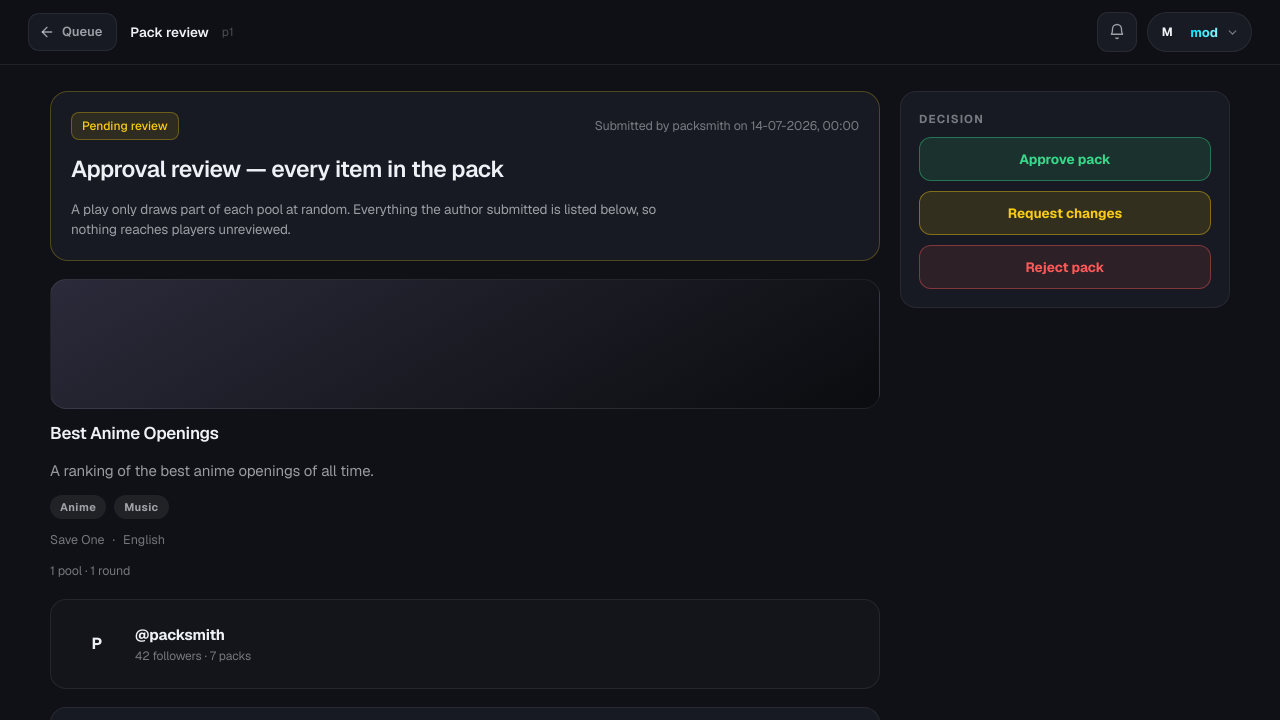
Scenario: PackReviewScreen › surfaces a failed approve instead of silently doing nothing, and does not navigate away
Check: the heading "Approval review — every item in the pack" is shown, box [71,154,504,184]
What coordinates should you click on to do the following:
click the button "Approve pack"
I would click on:
 (1065, 159)
Its box is [919,137,1211,181].
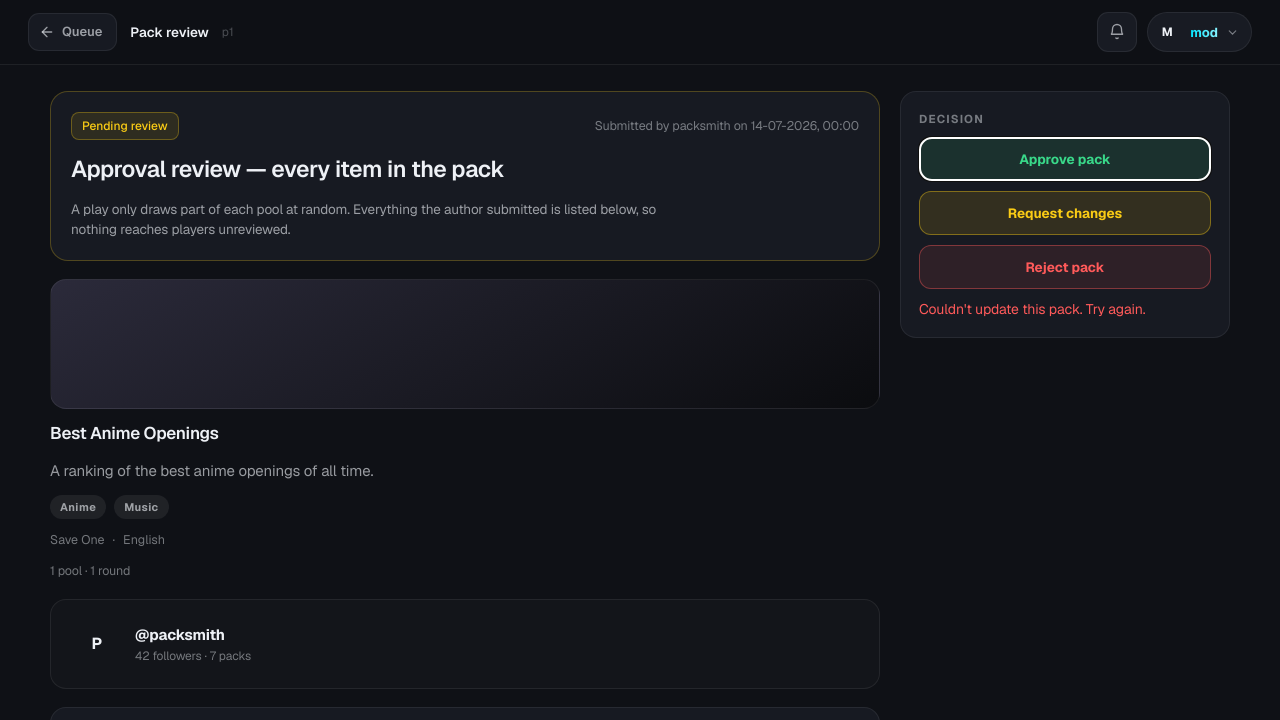
Check: the text "Couldn't update this pack. Try again." is shown, box [919,300,1145,318]
